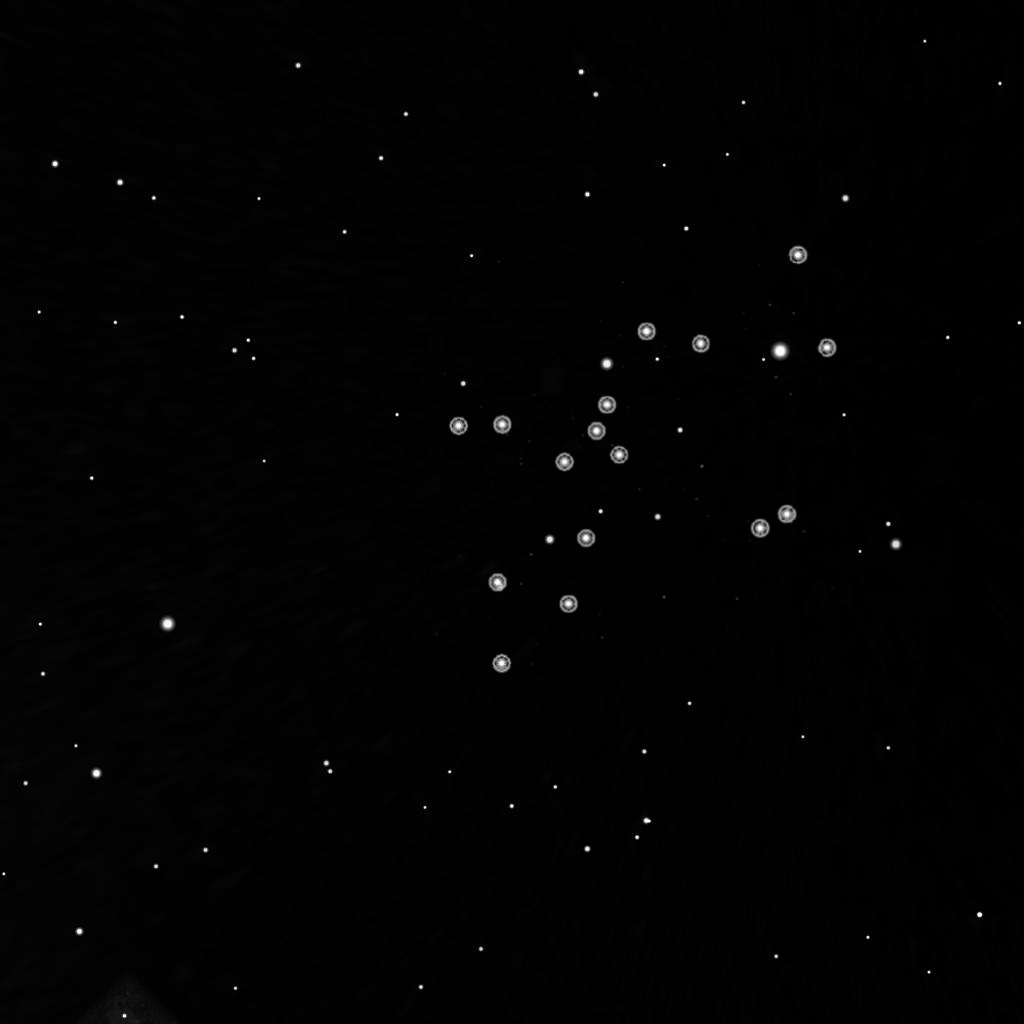canis_major: (547, 317, 713, 478)
